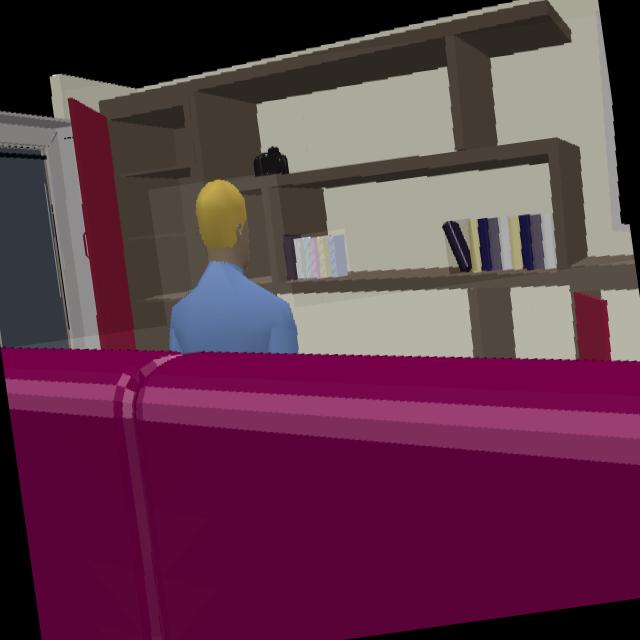book: (480, 216, 546, 272), (289, 234, 350, 280), (443, 221, 475, 272)
bookshelf: (68, 32, 637, 359)
person: (170, 180, 297, 355)
sofa: (1, 349, 640, 640)
